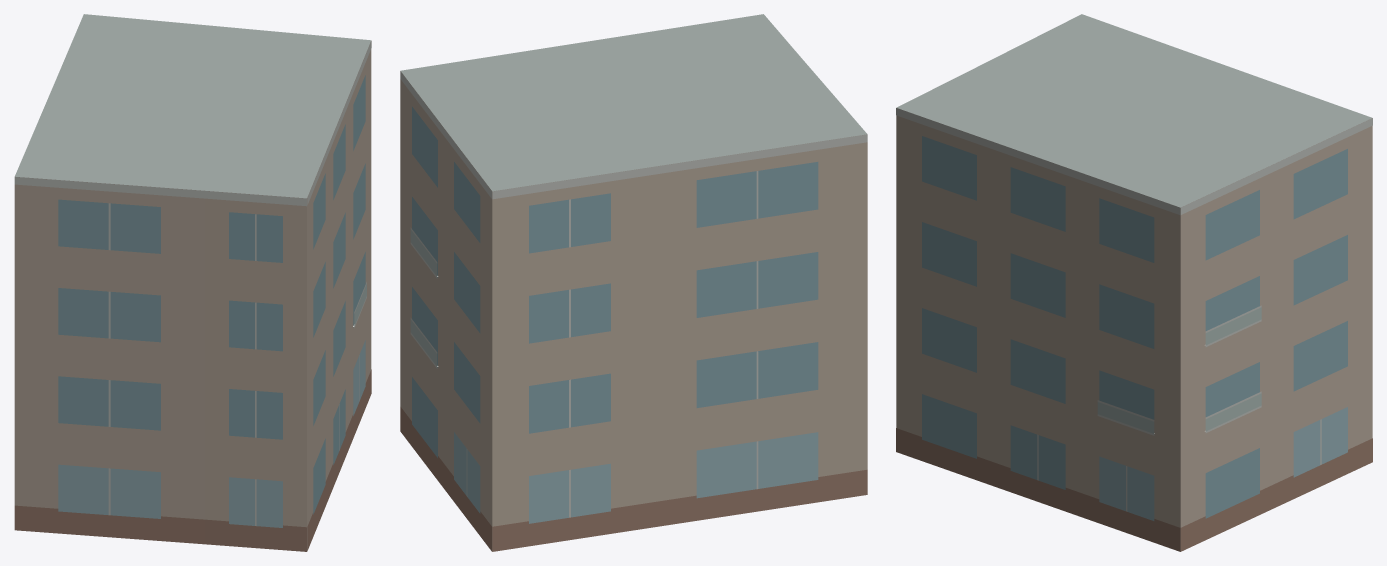
Rendered from survey-upis-33018904.glb.
The picture shows the model from 3 angles, left to right: view 1: azimuth 30°, elevation 25°; view 2: azimuth 150°, elevation 25°; view 3: azimuth 270°, elevation 25°; orthographic projection. The views are drawn at different scales.
Parts seen in each view (by area): view 1: survey-upis-33018904.tmp; view 2: survey-upis-33018904.tmp; view 3: survey-upis-33018904.tmp.
Part boxes in pixels (<box>): survey-upis-33018904.tmp: <box>14,14,371,551</box>; survey-upis-33018904.tmp: <box>400,14,867,551</box>; survey-upis-33018904.tmp: <box>896,14,1372,551</box>.
Size of the model in its own units: 13.28 by 11 by 13.81.
